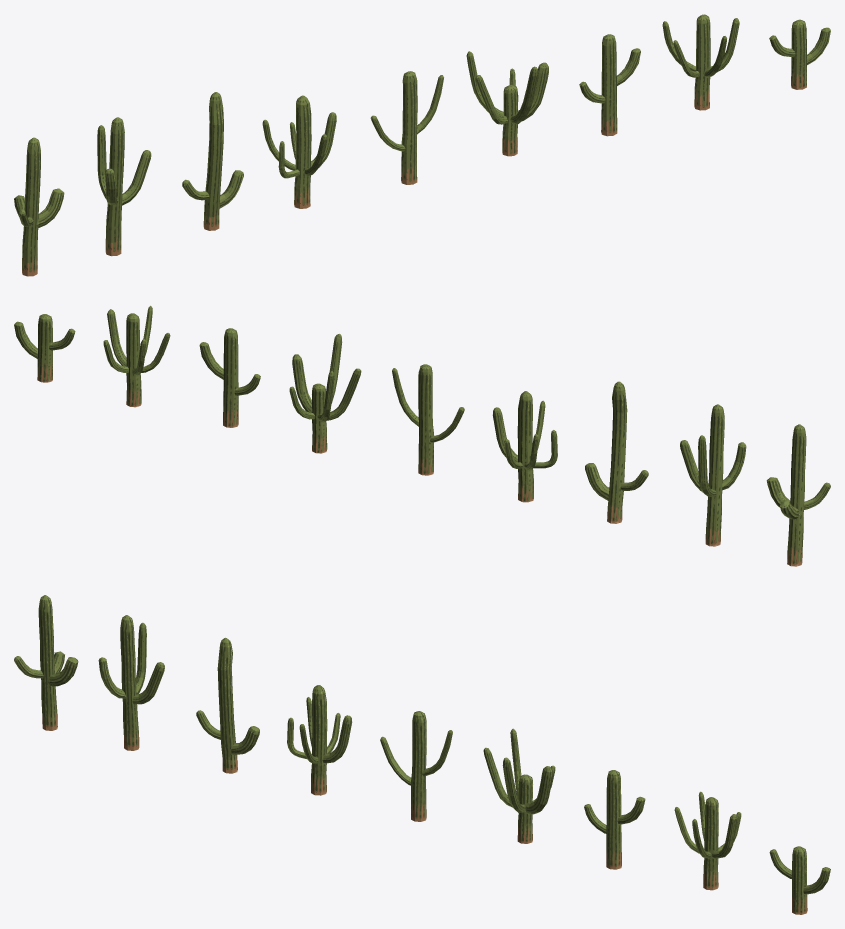
File: Cacti.fbx
3 views of the same model, one above another, from view 1: azimuth 30°, elevation 25°; view 2: azimuth 150°, elevation 25°; view 3: azimuth 330°, elevation 25° (orthographic). The views are drawn at different scales.
Parts seen in each view (by area): view 1: Cacti_02, Cacti_04, Cacti_06, Cacti_01, Cacti_03, Cacti_08, Cacti_05, Cacti_07, Cacti_09; view 2: Cacti_02, Cacti_06, Cacti_04, Cacti_01, Cacti_08, Cacti_03, Cacti_05, Cacti_07, Cacti_09; view 3: Cacti_02, Cacti_04, Cacti_06, Cacti_01, Cacti_03, Cacti_08, Cacti_05, Cacti_07, Cacti_09.
Boxes of the visible parts, box(x1,y1,x2,y2) form: Cacti_02: box(97, 117, 151, 256); Cacti_04: box(262, 95, 336, 208); Cacti_06: box(466, 51, 548, 156); Cacti_01: box(14, 137, 64, 276); Cacti_03: box(182, 92, 243, 230); Cacti_08: box(662, 14, 739, 110); Cacti_05: box(370, 71, 443, 184); Cacti_07: box(579, 34, 640, 136); Cacti_09: box(769, 19, 830, 89); Cacti_02: box(680, 404, 746, 546); Cacti_06: box(289, 333, 361, 453); Cacti_04: box(492, 391, 557, 502); Cacti_01: box(766, 424, 830, 566); Cacti_08: box(103, 305, 170, 407); Cacti_03: box(585, 381, 648, 523); Cacti_05: box(392, 364, 464, 475); Cacti_07: box(199, 328, 260, 427); Cacti_09: box(14, 314, 75, 382); Cacti_02: box(98, 615, 164, 750); Cacti_04: box(287, 685, 352, 795); Cacti_06: box(483, 728, 555, 843); Cacti_01: box(14, 595, 78, 730); Cacti_03: box(196, 637, 259, 773); Cacti_08: box(674, 791, 741, 890); Cacti_05: box(380, 711, 452, 821); Cacti_07: box(584, 770, 645, 869); Cacti_09: box(769, 846, 830, 914).
Size of the model in its own units: 25.56 by 4.12 by 2.12.
Materials: 9 (9 with a texture image).
